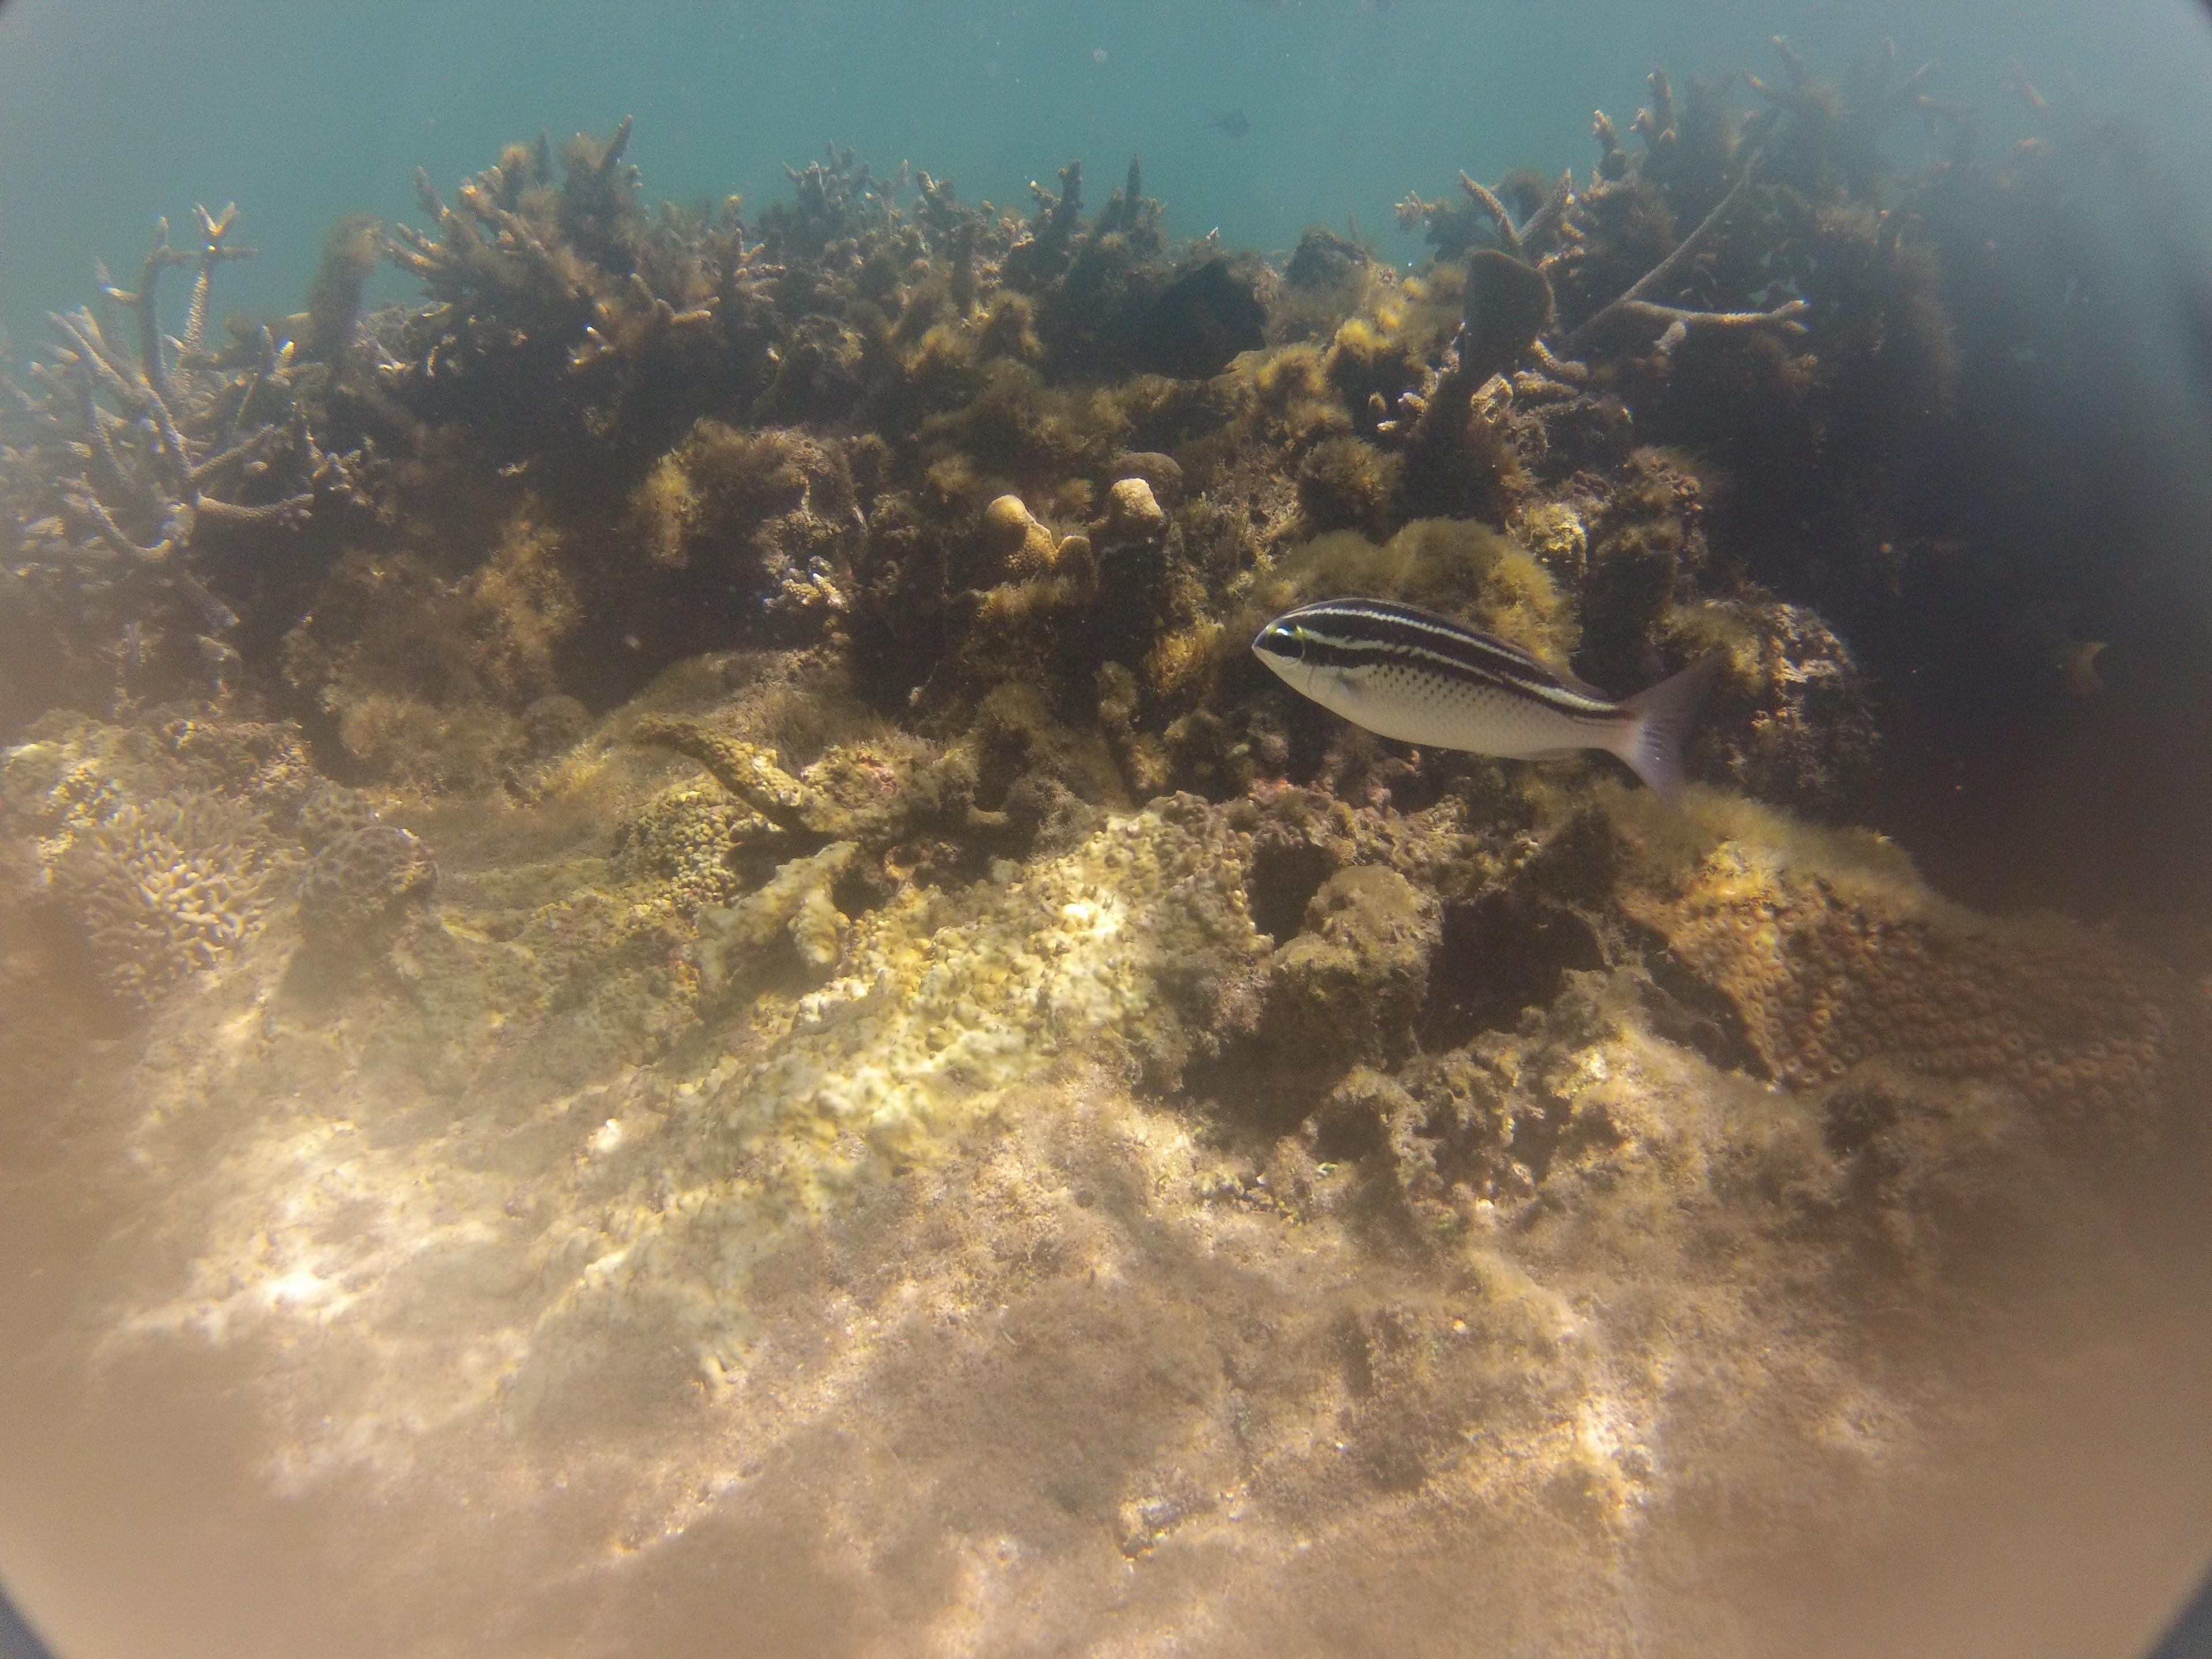Fish: (1205, 568, 1743, 850)
